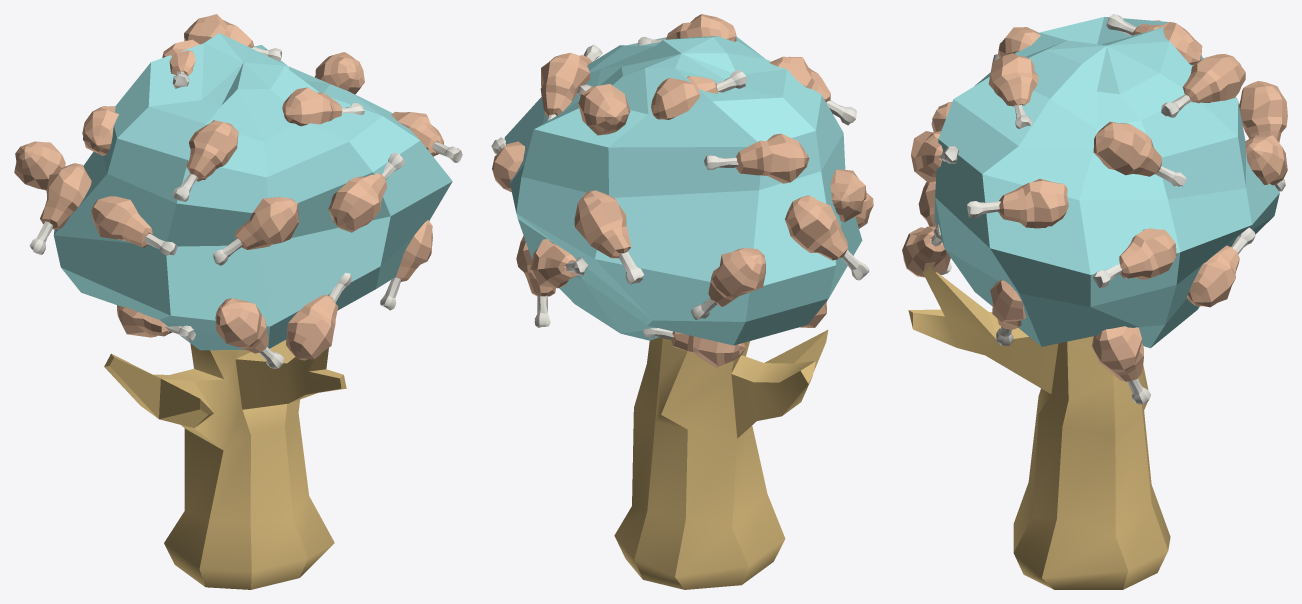
File: drumstick_tree.fbx
The picture shows the model from 3 angles, left to right: view 1: azimuth 30°, elevation 25°; view 2: azimuth 150°, elevation 25°; view 3: azimuth 270°, elevation 25°; orthographic projection. The views are drawn at different scales.
Visible parts, largest first — view 1: pPlane2; view 2: pPlane2; view 3: pPlane2.
Boxes of the visible parts, bbox=[...] form: pPlane2: bbox=[14, 14, 462, 589]; pPlane2: bbox=[491, 14, 873, 589]; pPlane2: bbox=[902, 14, 1287, 589].
Size of the model in its own units: 64.12 by 80.18 by 53.16.
